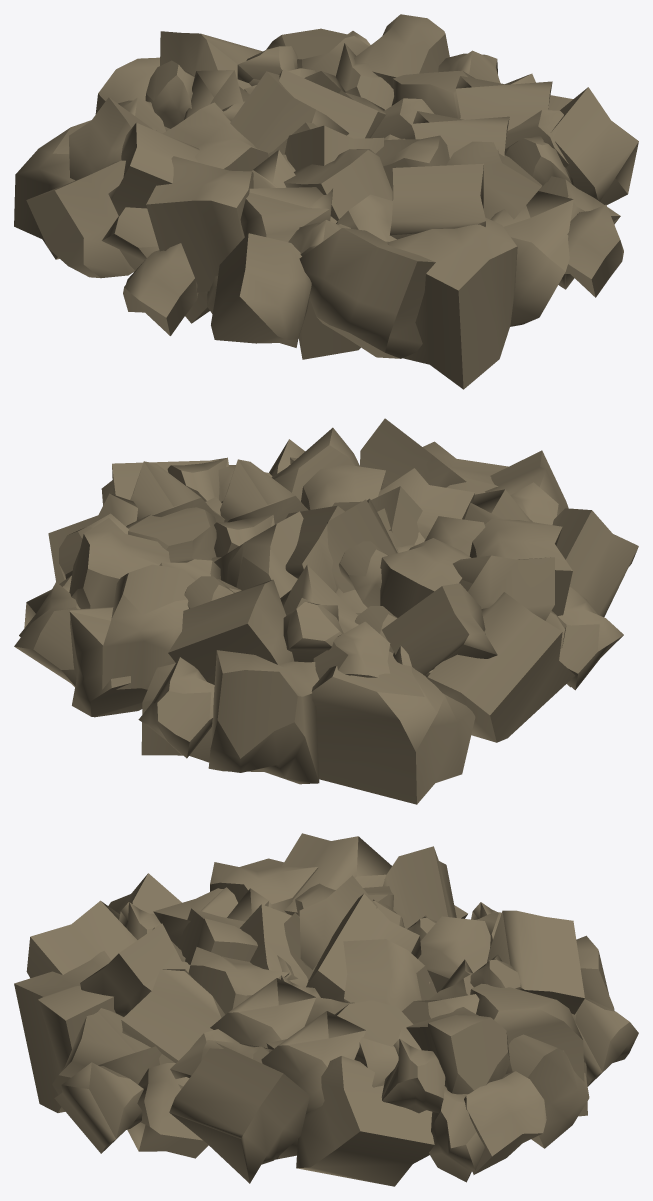
The model's file is Food_Full.fbx.
3 views of the same model, one above another, from view 1: azimuth 30°, elevation 25°; view 2: azimuth 150°, elevation 25°; view 3: azimuth 270°, elevation 25° (orthographic).
Visible parts, largest first — view 1: Full; view 2: Full; view 3: Full.
Part boxes in pixels (bbox=[...]): Full: bbox=[14, 14, 638, 389]; Full: bbox=[14, 418, 638, 804]; Full: bbox=[14, 833, 638, 1186].
Size of the model in its own units: 2.19 by 0.852 by 2.3.
